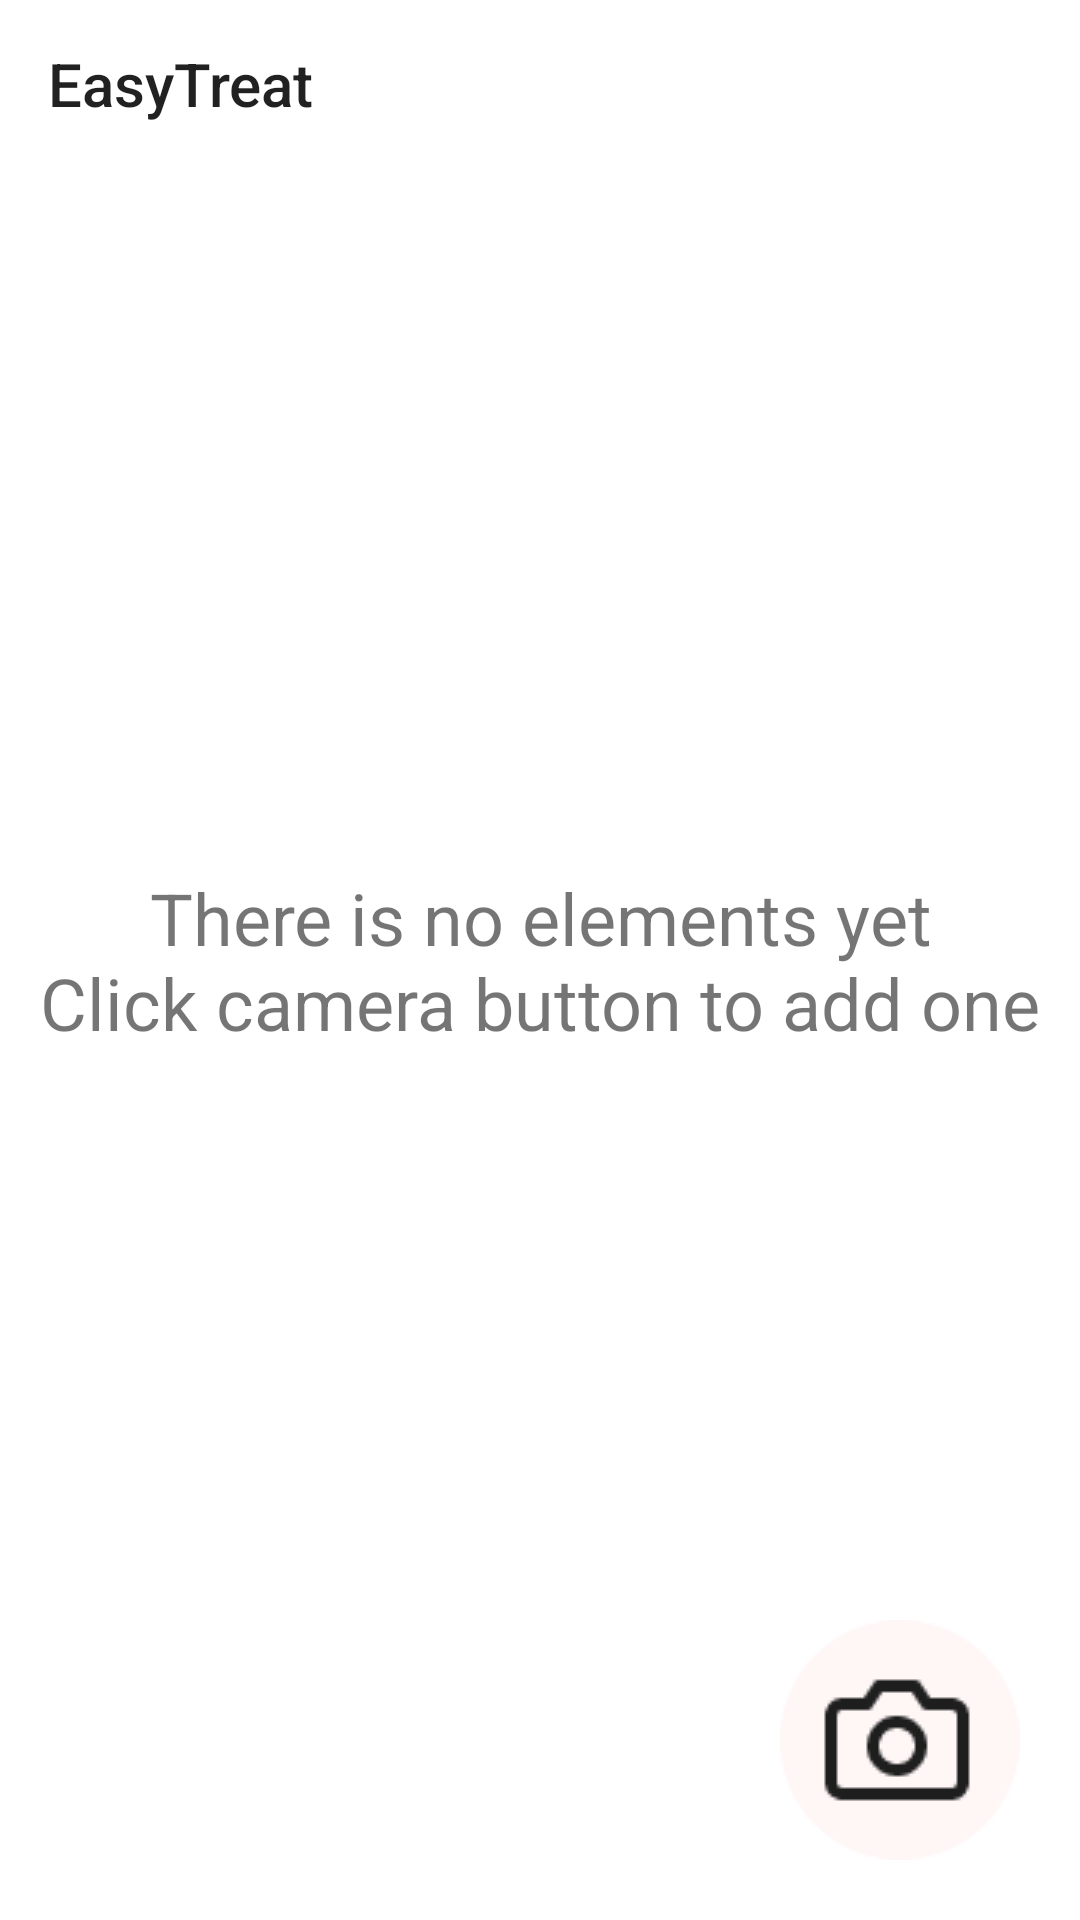

Icon bounding boxes for this 1080x1920 phone screenshot, format bbox(x1, y1, x2, y2):
camera: bbox(780, 1620, 1020, 1860)
